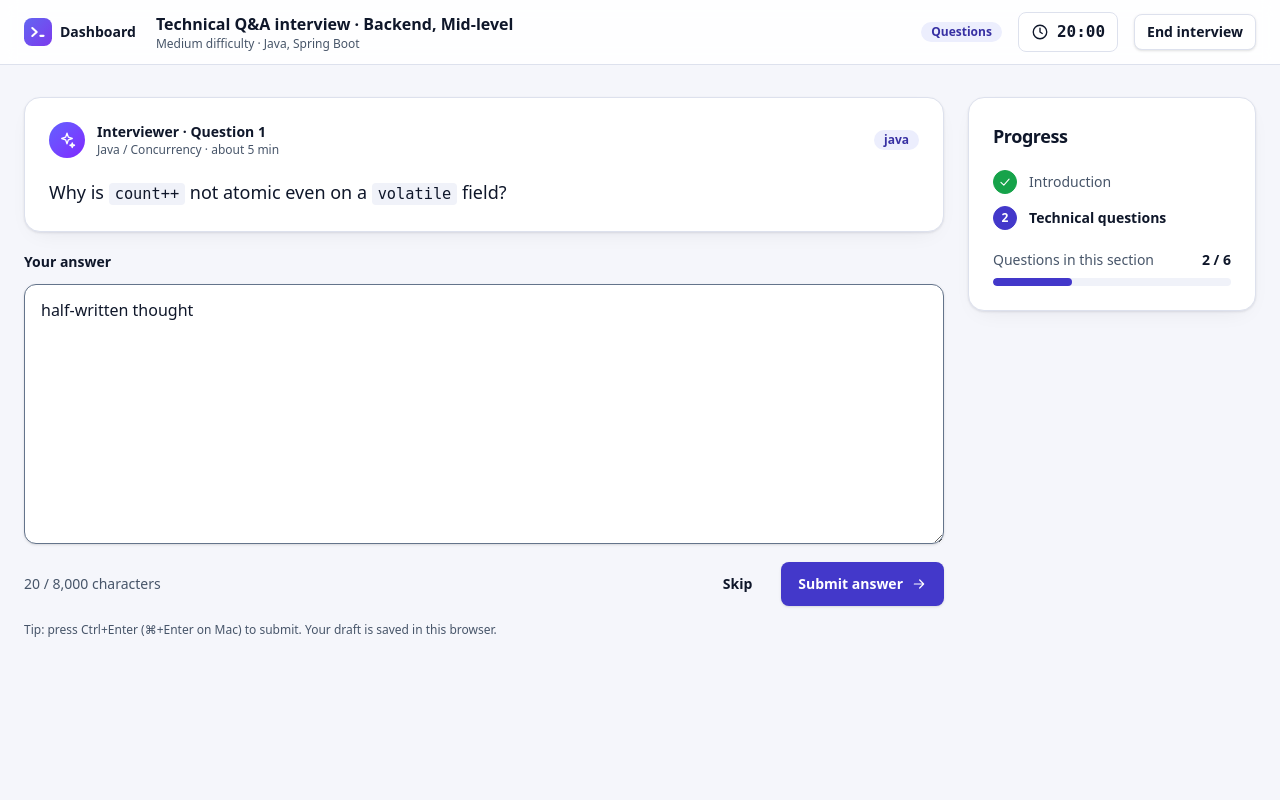
Test: InterviewRoom: an interview in progress › restores a saved draft after a reload, and drops it once the answer is sent
Expected: the text box labelled "Your answer" holds "half-written thought", [24,284,944,544]
Click the button "Submit answer": x=863, y=584 [781,562,944,606]
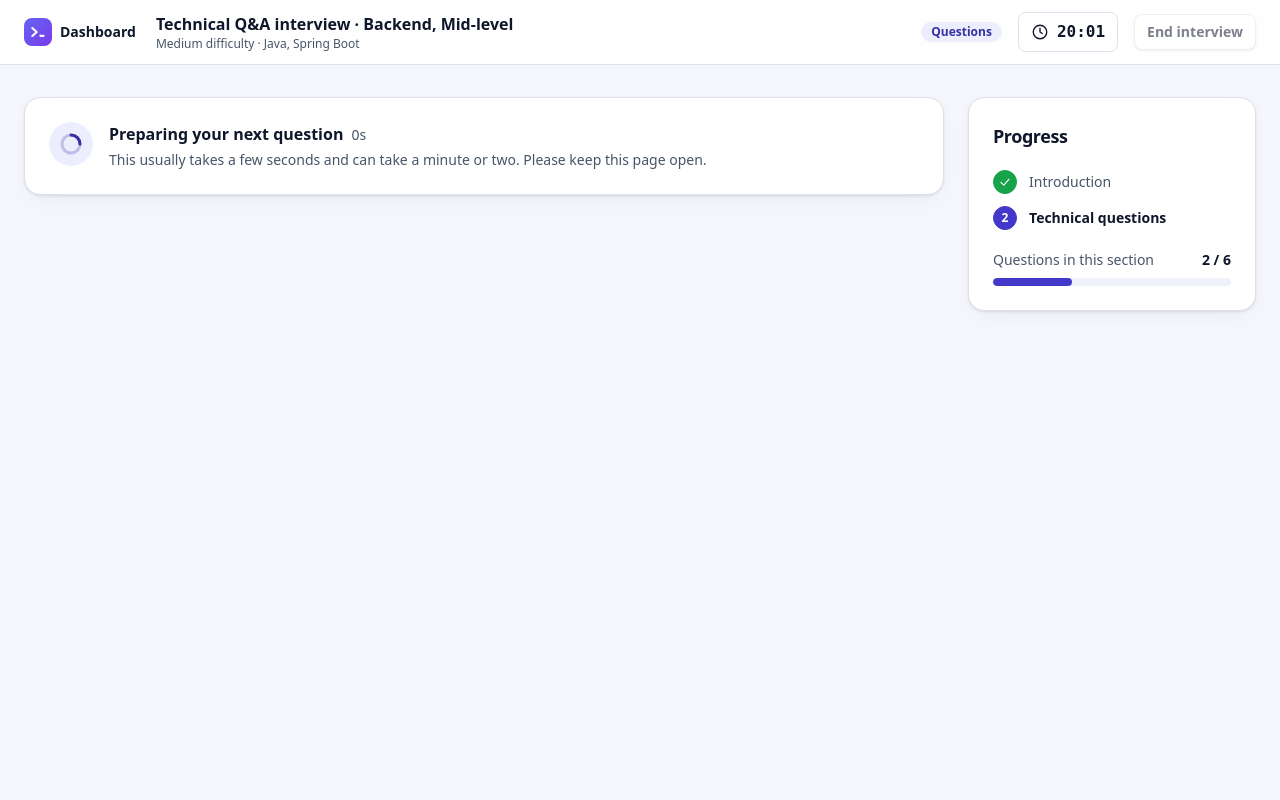
Now the text "Preparing your next question" is shown, box [109,123,343,145]
